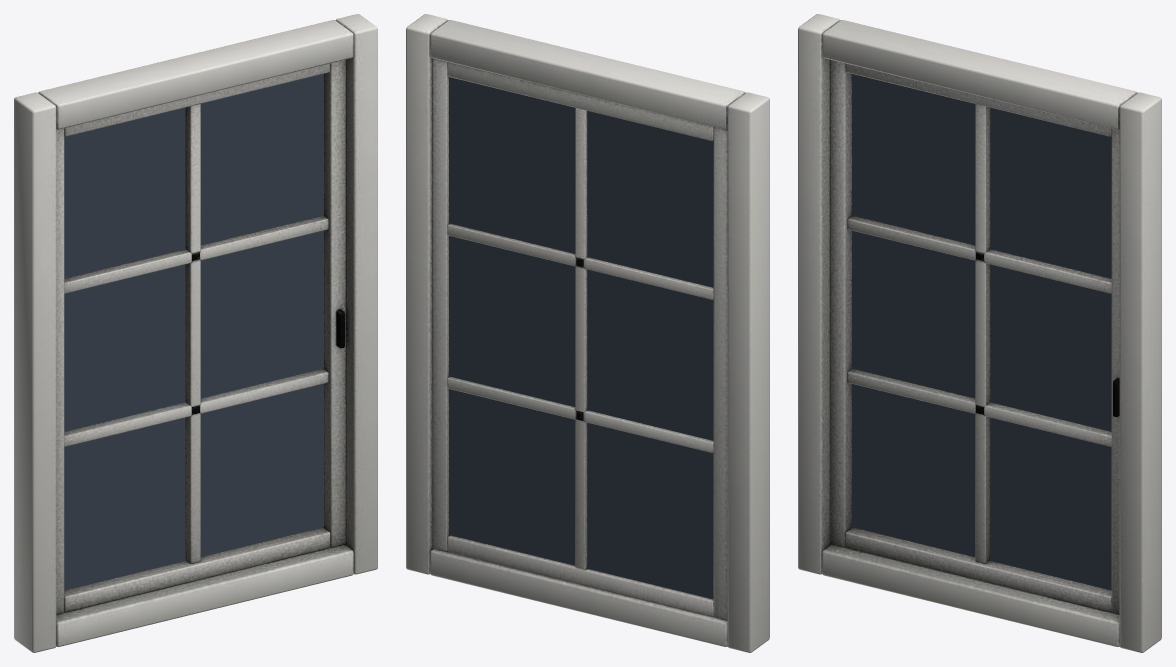
File: window_23.glb
The picture shows the model from 3 angles, left to right: view 1: azimuth 30°, elevation 25°; view 2: azimuth 150°, elevation 25°; view 3: azimuth 330°, elevation 25°; orthographic projection.
Parts seen in each view (by area): view 1: glass, frame_b; view 2: glass, frame_b; view 3: glass, frame_b.
Part boxes in pixels (x1,y1,x2,y2): glass: (64,74,323,590); frame_b: (14,14,377,652); glass: (449,77,713,599); frame_b: (406,14,769,652); glass: (852,74,1111,590); frame_b: (798,14,1161,652).
Size of the model in its own units: 1 by 1.5 by 0.1.
2 materials, 1 textured.
